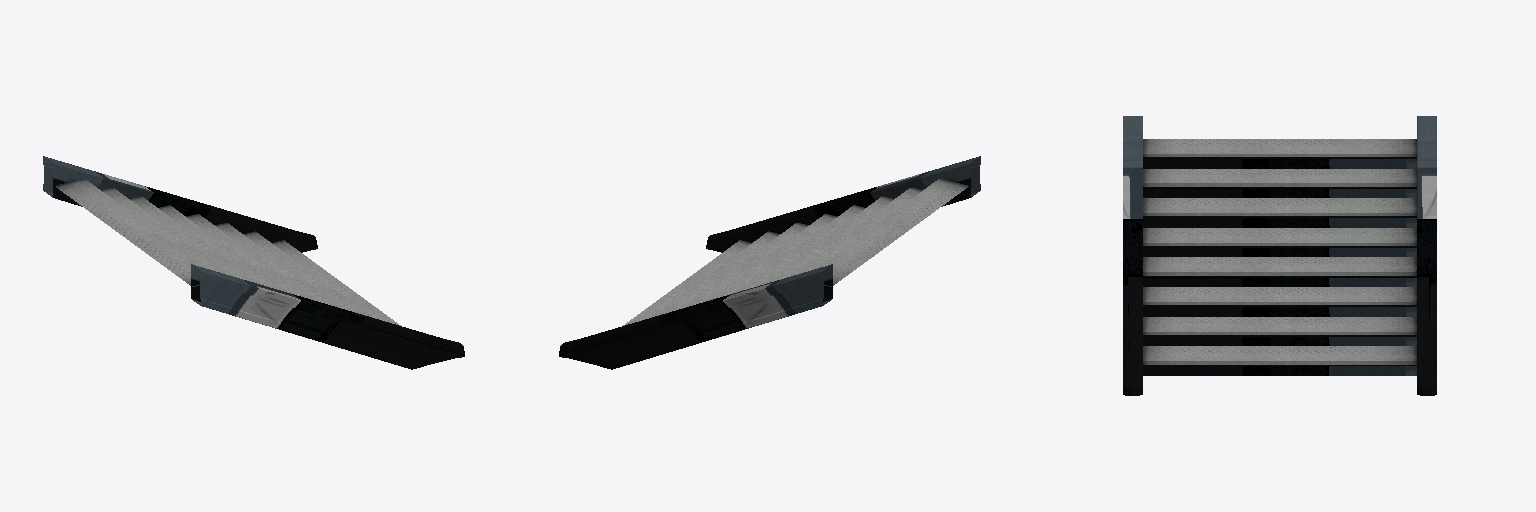
3 views of the same model, side by side, from view 1: azimuth 30°, elevation 25°; view 2: azimuth 150°, elevation 25°; view 3: azimuth 270°, elevation 25° (orthographic).
Visible parts, largest first — view 1: rdmobj00; view 2: rdmobj00; view 3: rdmobj00.
Boxes of the visible parts, x1=… form: rdmobj00: x1=43, y1=156, x2=464, y2=369; rdmobj00: x1=559, y1=156, x2=980, y2=369; rdmobj00: x1=1123, y1=116, x2=1436, y2=395.
Size of the model in its own units: 269 by 144 by 273.
Materials: 1 (1 with a texture image).